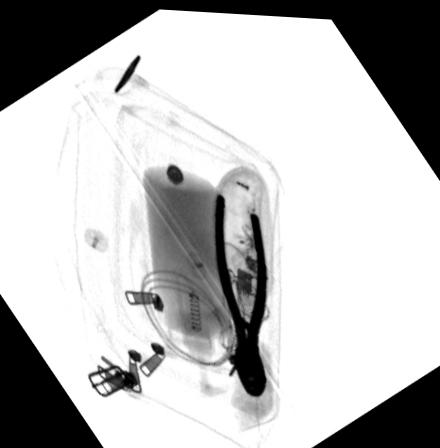Pliers: (213, 187, 267, 395)
